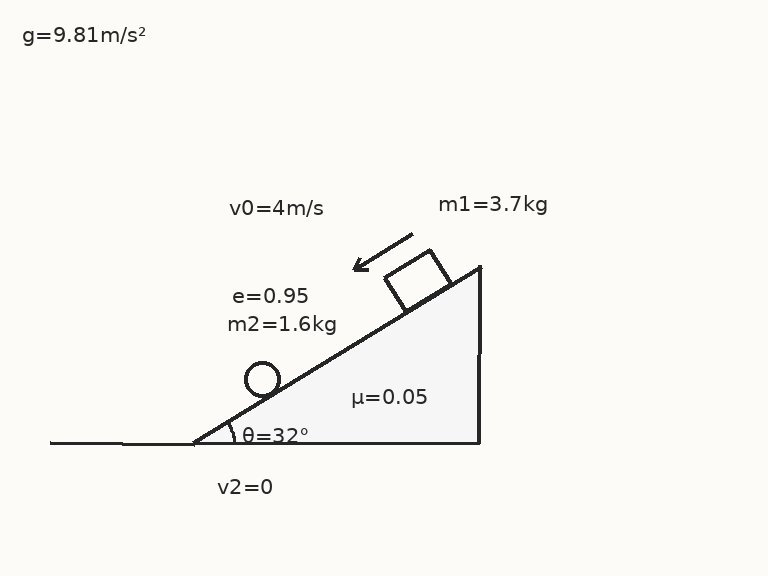ball: (242, 359, 282, 399)
block: (382, 248, 452, 313)
ramp: (192, 263, 480, 445)
